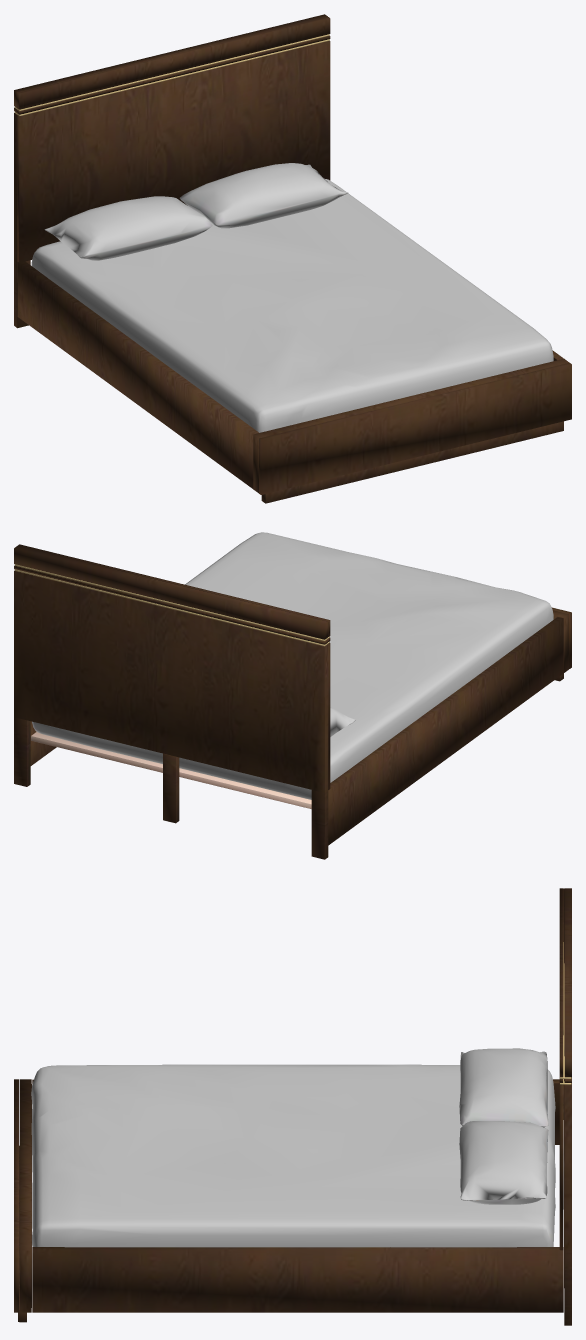
Rendered from abo-B0719SNKSY.glb.
3 views of the same model, one above another, from view 1: azimuth 30°, elevation 25°; view 2: azimuth 150°, elevation 25°; view 3: azimuth 270°, elevation 25° (orthographic). The views are drawn at different scales.
Visible parts, largest first — view 1: RootNode; view 2: RootNode; view 3: RootNode.
Boxes of the visible parts, left/top/right/bottom form: RootNode: left=14, top=14, right=571, bottom=503; RootNode: left=14, top=532, right=571, bottom=859; RootNode: left=14, top=888, right=571, bottom=1325.
Size of the model in its own units: 1.61 by 1.17 by 2.22.
1 material, 1 textured.
